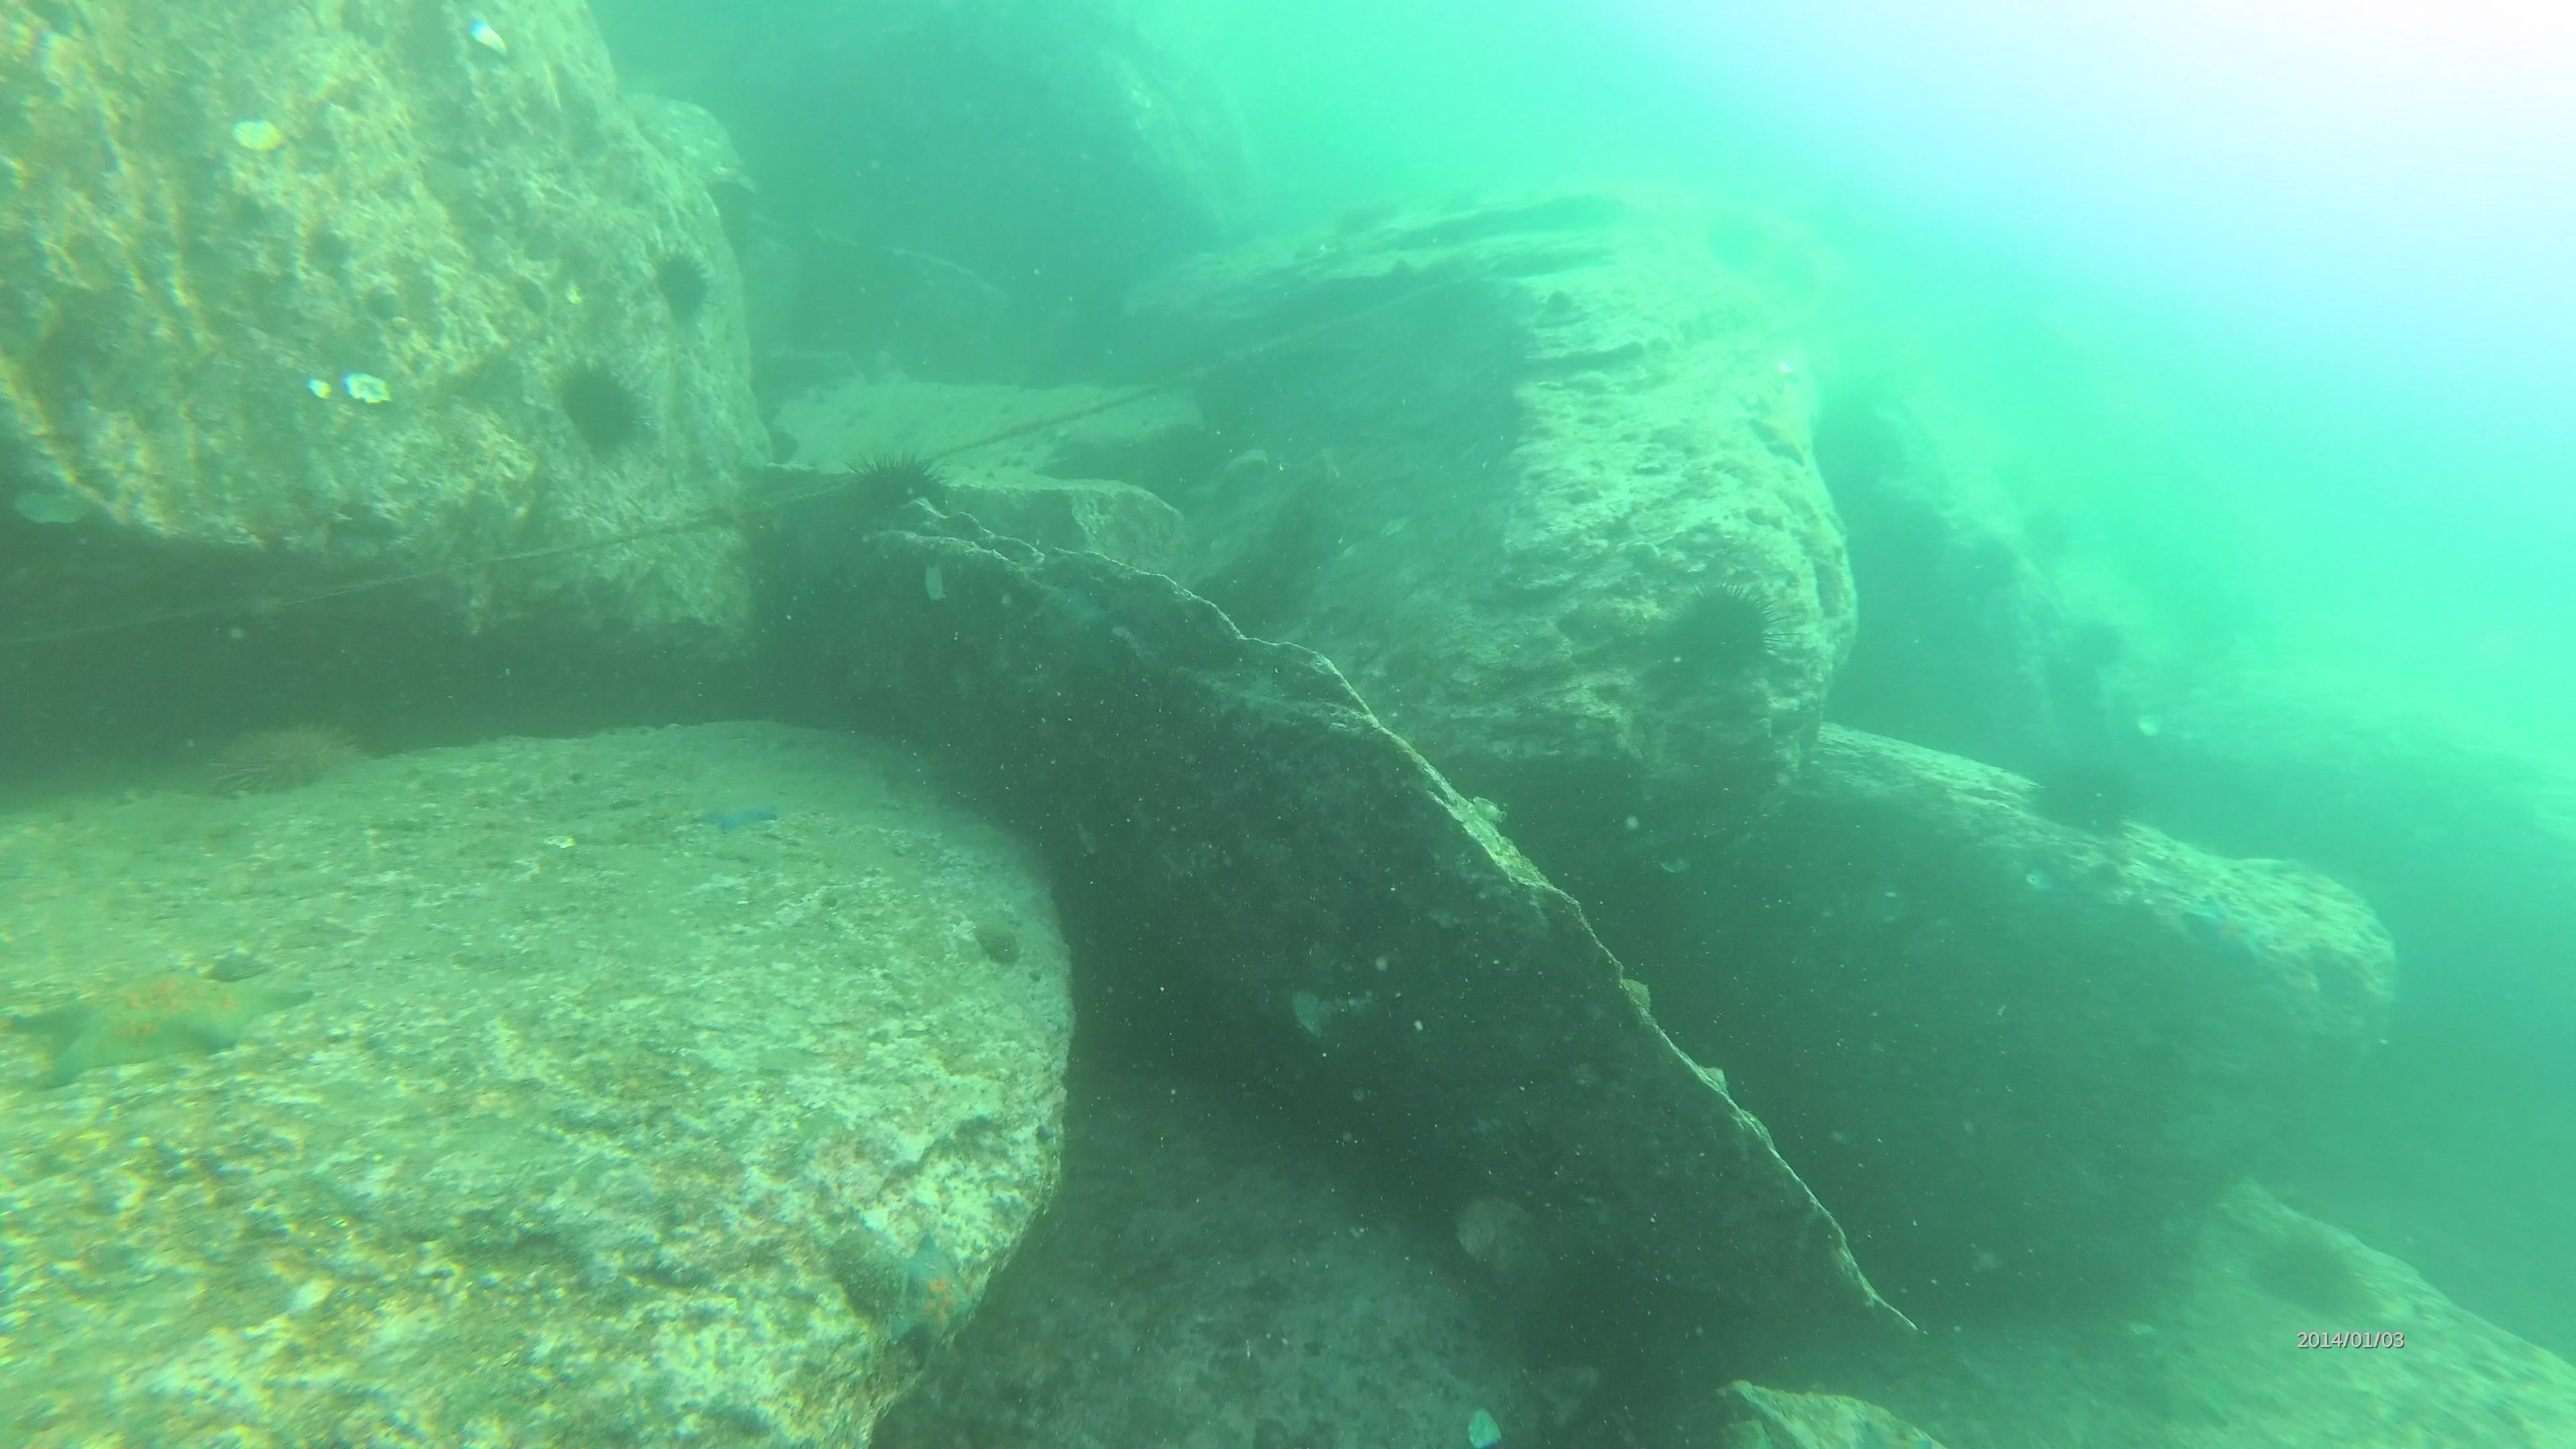echinus: (823, 446, 957, 561), (205, 713, 366, 805), (1660, 577, 1785, 694), (2243, 1221, 2378, 1329), (2024, 748, 2148, 847), (548, 352, 653, 464), (644, 239, 718, 331), (2070, 610, 2127, 672)
starfish: (12, 948, 317, 1085), (883, 1224, 989, 1362), (1739, 366, 1828, 476), (683, 778, 793, 840)
